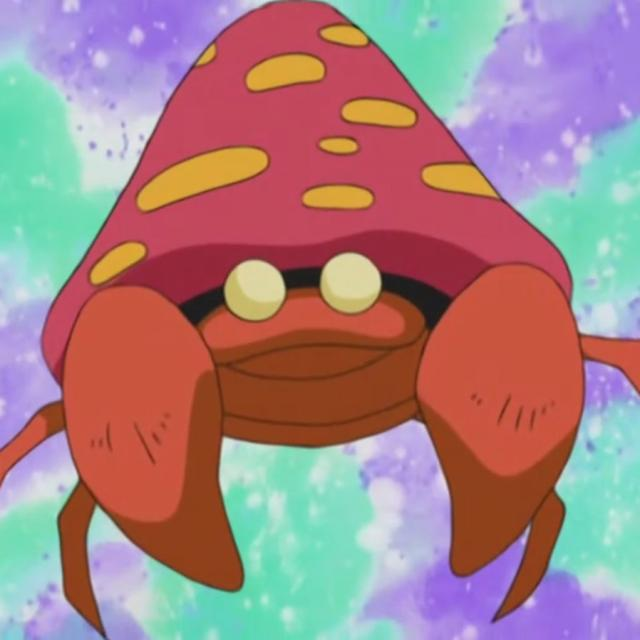Parasect: (63, 13, 583, 585)
